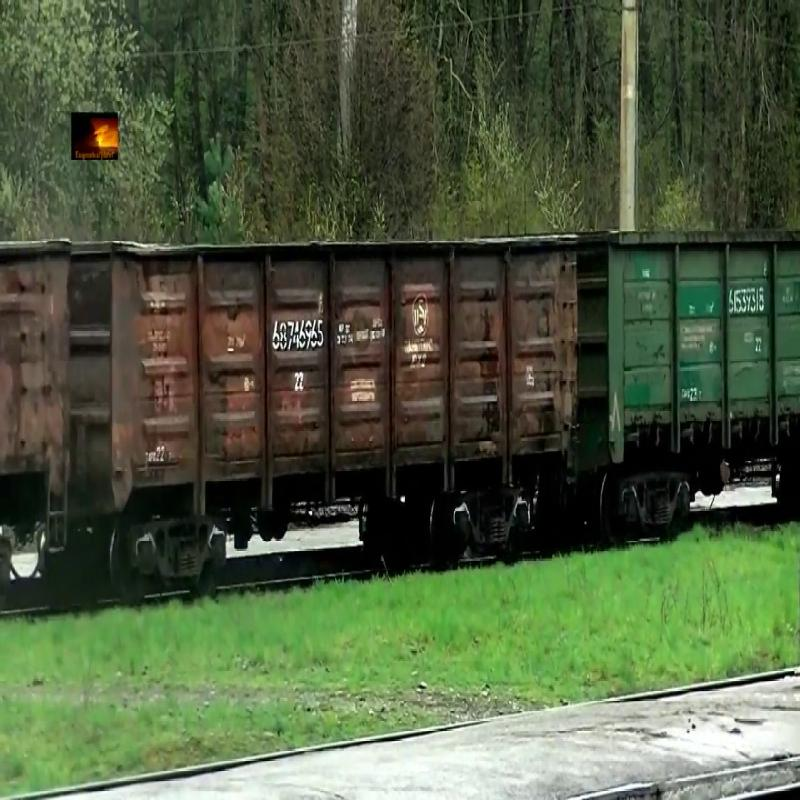train: (77, 235, 581, 523), (583, 227, 800, 467), (1, 237, 76, 502)
